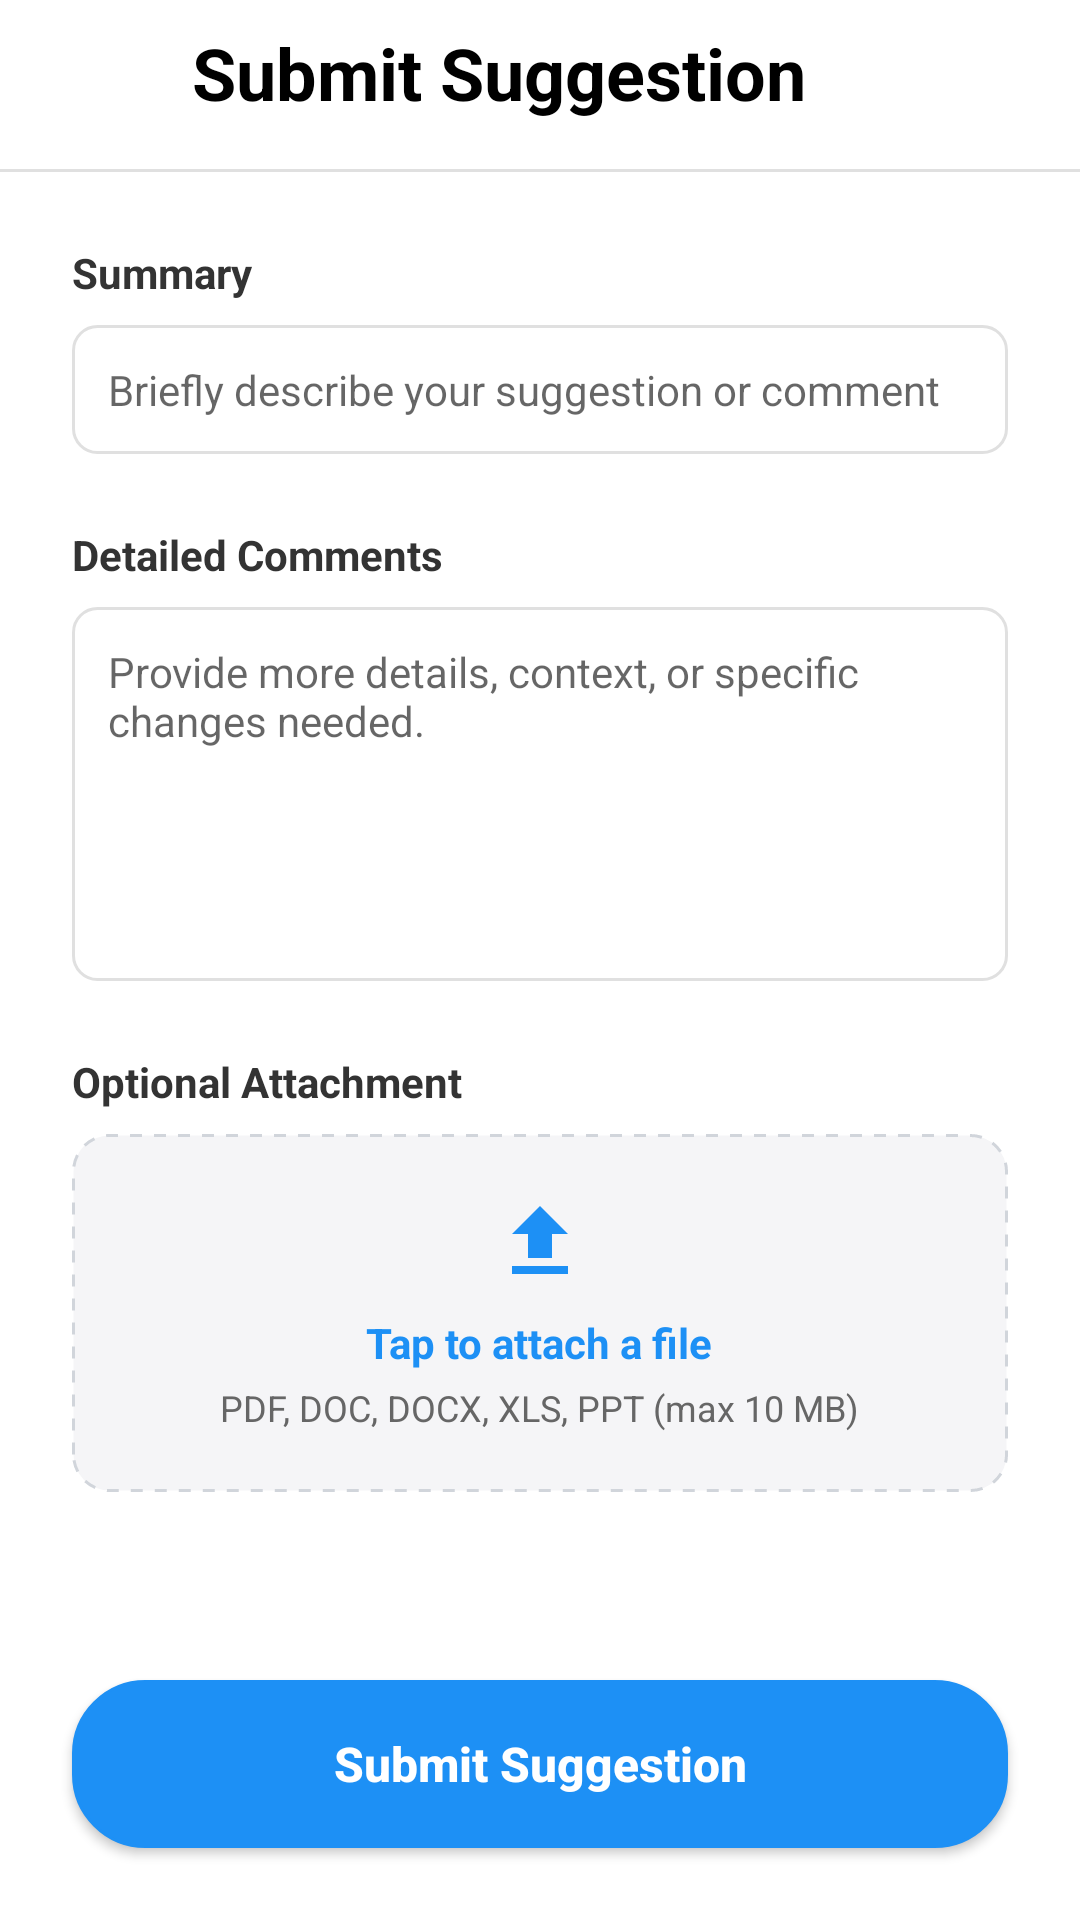

Named icons in this screenshot (1080w x 1920h) and their bounding boxes, region(x1, y1, x2, y2):
upload: region(512, 1206, 568, 1274)
